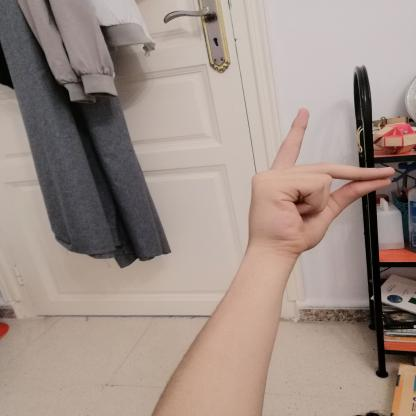TAA: (235, 98, 410, 272)
